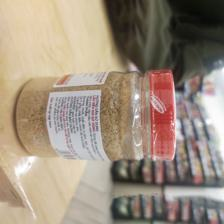Hao_hao: (13, 69, 184, 163)
